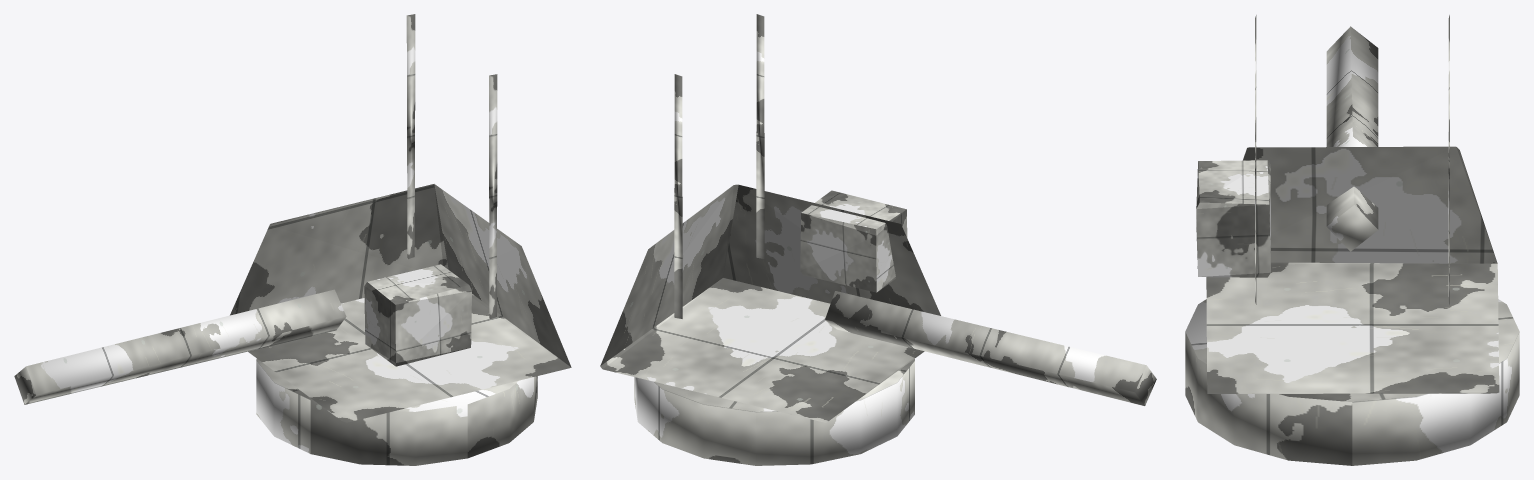
The model's file is scout_car_turret_lod.glb.
3 views of the same model, side by side, from view 1: azimuth 30°, elevation 25°; view 2: azimuth 150°, elevation 25°; view 3: azimuth 270°, elevation 25° (orthographic). The views are drawn at different scales.
Parts seen in each view (by area): view 1: scout_car_turret_lod; view 2: scout_car_turret_lod; view 3: scout_car_turret_lod.
Part boxes in pixels (box(x1,y1,x2,y2)): scout_car_turret_lod: box(14, 14, 571, 465); scout_car_turret_lod: box(600, 14, 1156, 465); scout_car_turret_lod: box(1185, 15, 1519, 465).
Size of the model in its own units: 1.17 by 0.7858 by 0.5798.
1 material, 1 textured.
